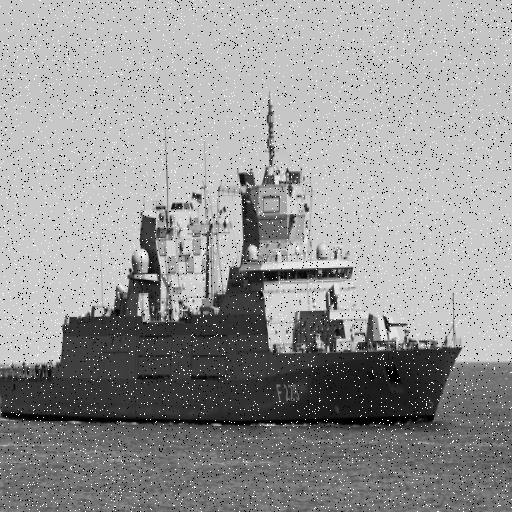Fragata: (1, 83, 469, 428)
